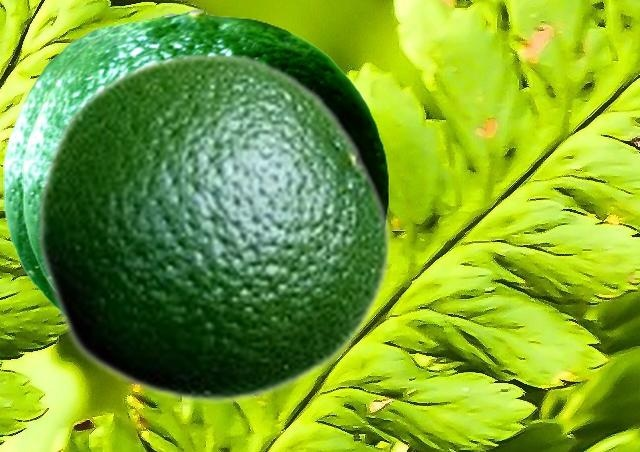calamansi: (34, 50, 392, 405), (22, 8, 388, 282), (3, 12, 177, 309)
